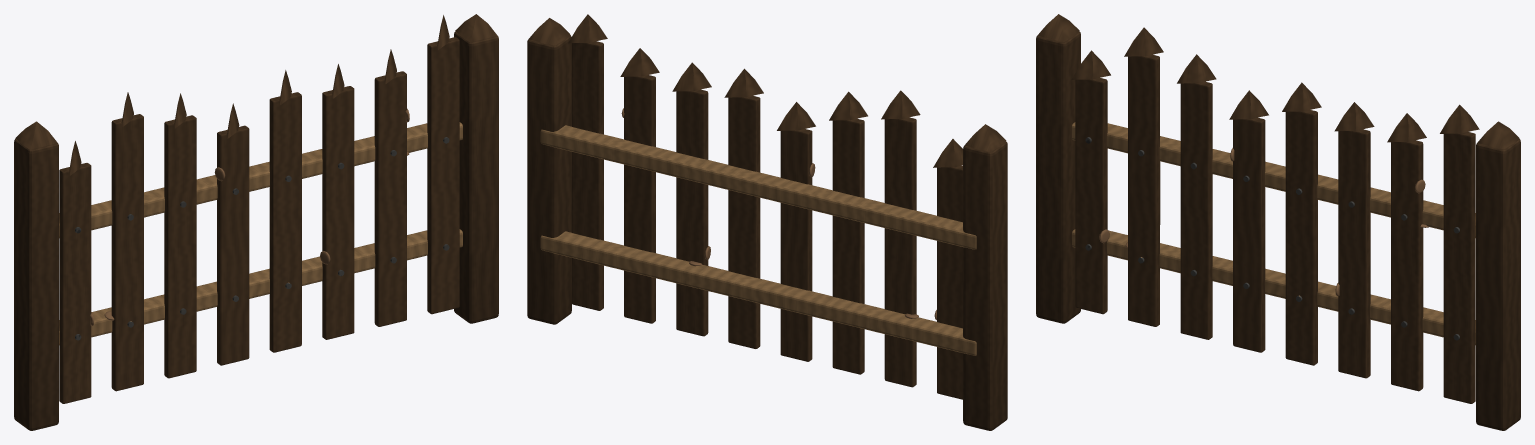
3 views of the same model, side by side, from view 1: azimuth 30°, elevation 25°; view 2: azimuth 150°, elevation 25°; view 3: azimuth 330°, elevation 25° (orthographic).
Visible parts, largest first — view 1: heartwood, cut grain, forged iron; view 2: heartwood, cut grain; view 3: heartwood, cut grain, forged iron.
Boxes of the visible parts, <box> form: heartwood: <box>14,14,498,430</box>; cut grain: <box>59,122,462,344</box>; forged iron: <box>75,137,449,340</box>; heartwood: <box>527,14,1007,430</box>; cut grain: <box>540,125,976,355</box>; heartwood: <box>1036,14,1520,430</box>; cut grain: <box>1072,122,1475,344</box>; forged iron: <box>1085,137,1459,340</box>.
Bounding box in the file's own units: 1.84 × 1.16 × 0.1331.
Materials: 5 (3 with a texture image).
